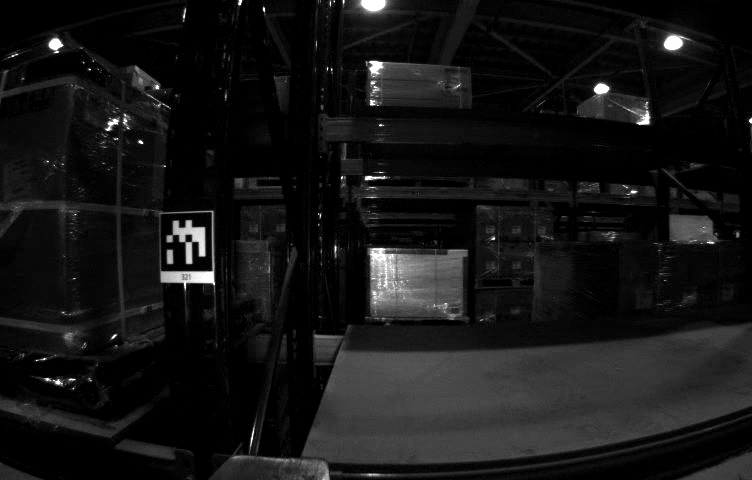True Barcode: (2, 155, 32, 203)
